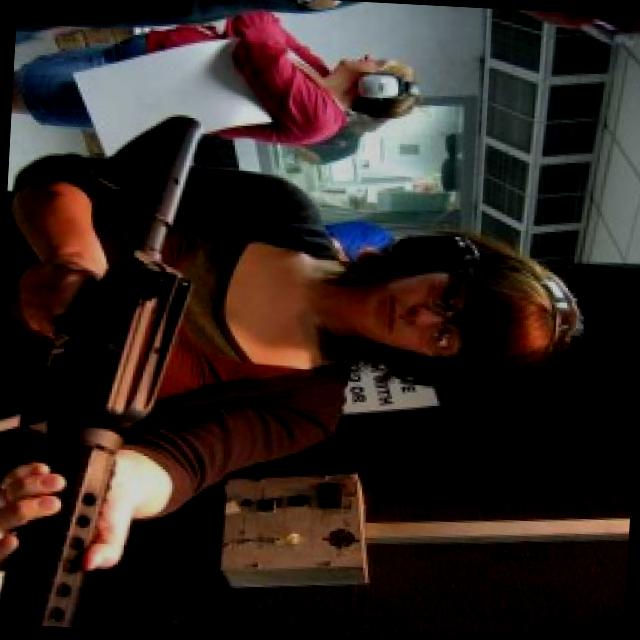long weapon: (0, 97, 195, 597)
